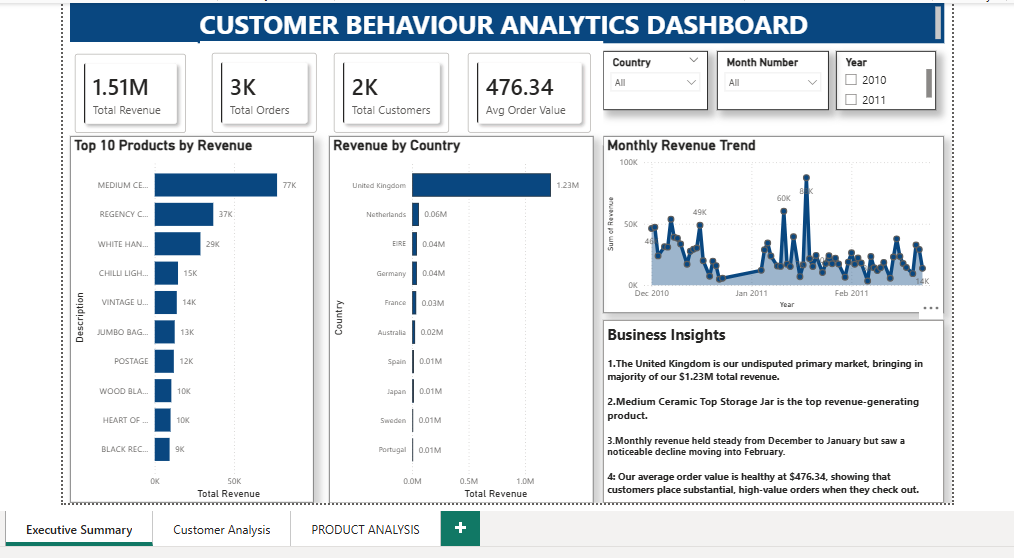

What the dashboard file says about the page in this screenshot:
{"tool":"powerbi","page":{"name":"Executive Summary","canvas":[1280,720],"ordinal":0},"visuals":[{"type":"textbox","box":[10.1,0,1258.6,57.6],"z":0},{"type":"slicer","fields":{"Values":["cleaned_online_retail.Country"]},"box":[777.6,69.1,151.2,85],"z":1000},{"type":"slicer","fields":{"Values":["cleaned_online_retail.Year"]},"box":[1113.1,69.1,144,85],"z":2000},{"type":"lineChart","title":"Monthly Revenue Trend","fields":{"Y":["Sum(cleaned_online_retail.Revenue)"],"Category":["cleaned_online_retail.InvoiceDate.Variation.Date Hierarchy.Year","cleaned_online_retail.InvoiceDate.Variation.Date Hierarchy.Quarter","cleaned_online_retail.InvoiceDate.Variation.Date Hierarchy.Month","cleaned_online_retail.InvoiceDate.Variation.Date Hierarchy.Day"]},"box":[777.6,191.5,491,254.9],"z":3000},{"type":"cardVisual","fields":{"Data":["cleaned_online_retail.Total Revenue"]},"box":[0,56.2,194.4,148.3],"z":4000},{"type":"cardVisual","fields":{"Data":["cleaned_online_retail.Total Orders"]},"box":[197.3,54.7,185.8,149.8],"z":5000},{"type":"cardVisual","fields":{"Data":["cleaned_online_retail.Total Customers"]},"box":[373,54.7,200.2,149.8],"z":6000},{"type":"cardVisual","fields":{"Data":["cleaned_online_retail.Avg Order Value"]},"box":[565.9,54.7,211.7,149.8],"z":7000},{"type":"clusteredBarChart","title":" Revenue by Country","fields":{"Category":["cleaned_online_retail.Country"],"Y":["cleaned_online_retail.Total Revenue"]},"box":[382.6,191.3,380.8,529.2],"z":8000},{"type":"slicer","fields":{"Values":["cleaned_online_retail.Month Number"]},"box":[941.8,69.1,161.3,85],"z":9000},{"type":"clusteredBarChart","title":"Top 10 Products by Revenue","fields":{"Category":["cleaned_online_retail.Description"],"Y":["cleaned_online_retail.Total Revenue"]},"box":[10.1,191.5,351.4,528.5],"z":10000},{"type":"textbox","box":[777.6,456.5,491,263.5],"z":11000}]}

Visuals, with their boxes on the page's 1280x720 design canvas (x1, y1, x2, y2). These are canvas units, not pixel positions in the 1014x558 screenshot, which may show the page scaled, cropped or inside an application window:
textbox: 10,0,1269,58
slicer - cleaned_online_retail.Country: 778,69,929,154
slicer - cleaned_online_retail.Year: 1113,69,1257,154
"Monthly Revenue Trend" lineChart: 778,192,1269,446
cardVisual - cleaned_online_retail.Total Revenue: 0,56,194,204
cardVisual - cleaned_online_retail.Total Orders: 197,55,383,204
cardVisual - cleaned_online_retail.Total Customers: 373,55,573,204
cardVisual - cleaned_online_retail.Avg Order Value: 566,55,778,204
" Revenue by Country" clusteredBarChart: 383,191,763,720
slicer - cleaned_online_retail.Month Number: 942,69,1103,154
"Top 10 Products by Revenue" clusteredBarChart: 10,192,362,720
textbox: 778,456,1269,720
